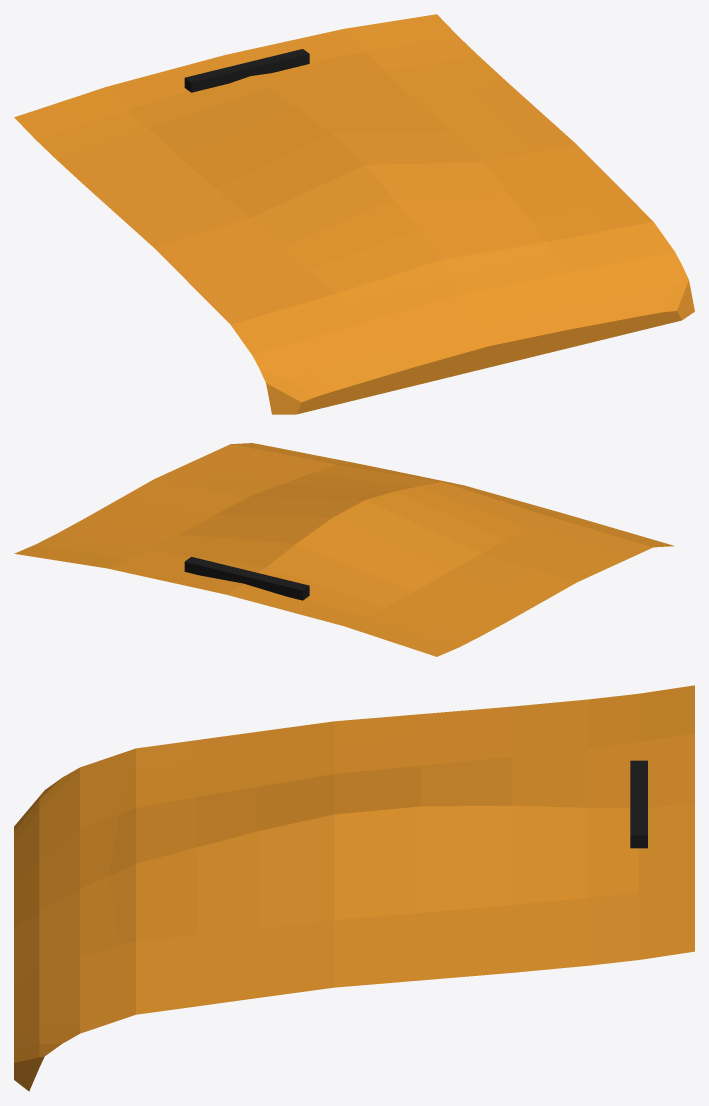
Rendered from protoCoupe_hood_hayate.glb.
3 renders of one model, top to bottom at view 1: azimuth 30°, elevation 25°; view 2: azimuth 150°, elevation 25°; view 3: azimuth 270°, elevation 25°, orthographic. The views are drawn at different scales.
Parts seen in each view (by area): view 1: hood_hayate; view 2: hood_hayate; view 3: hood_hayate.
Part boxes in pixels (x1=…): hood_hayate: x1=14, y1=14, x2=694, y2=414; hood_hayate: x1=14, y1=443, x2=674, y2=656; hood_hayate: x1=14, y1=685, x2=694, y2=1091.
Bounding box in the file's own units: 1.24 × 0.3485 × 1.34.
